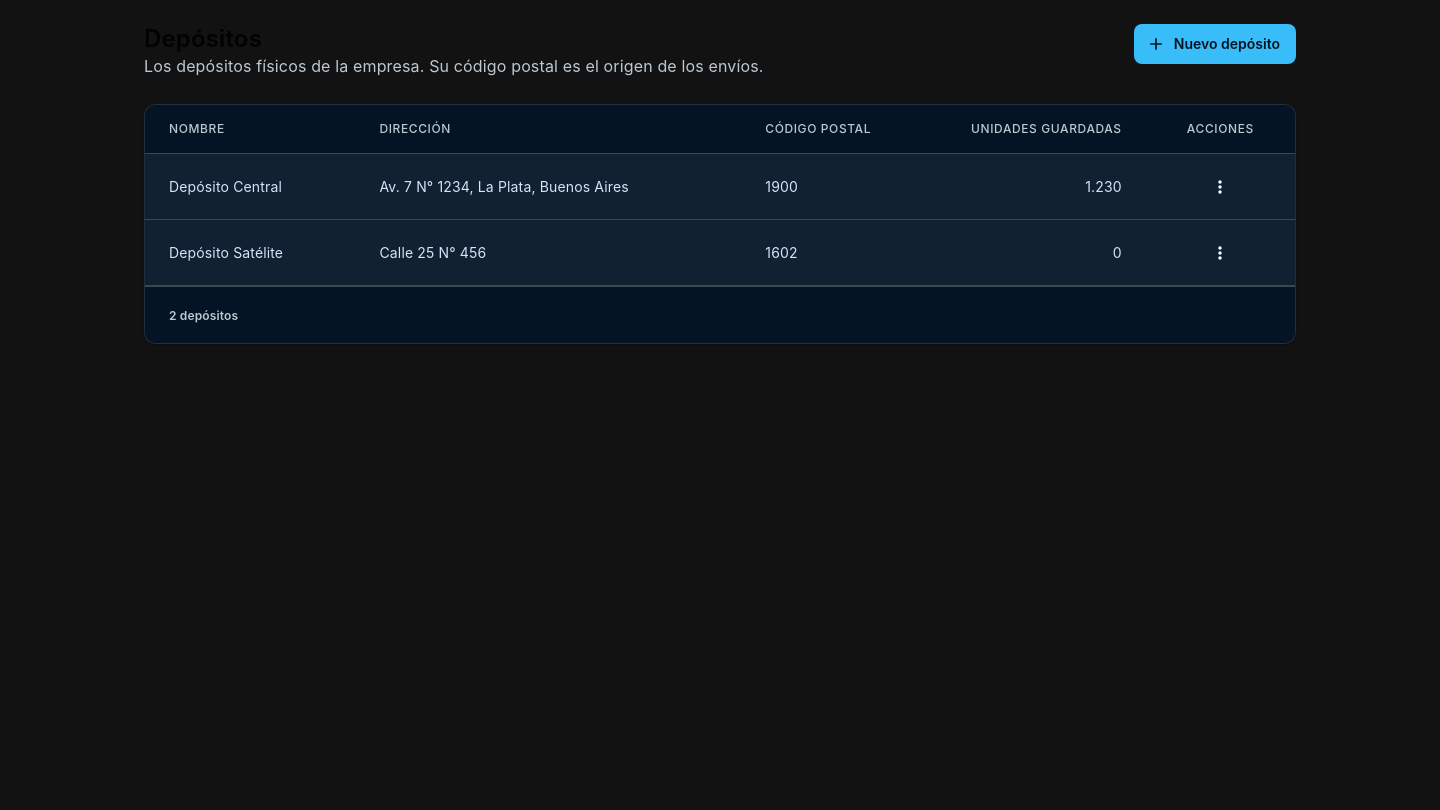
WarehousesPage › explains why the API refused the deletion and stops offering it
This screenshot has width=1440, height=810.
Click the button named "Acciones del depósito Depósito Central" at (1220, 187), box [1205,172,1235,202]
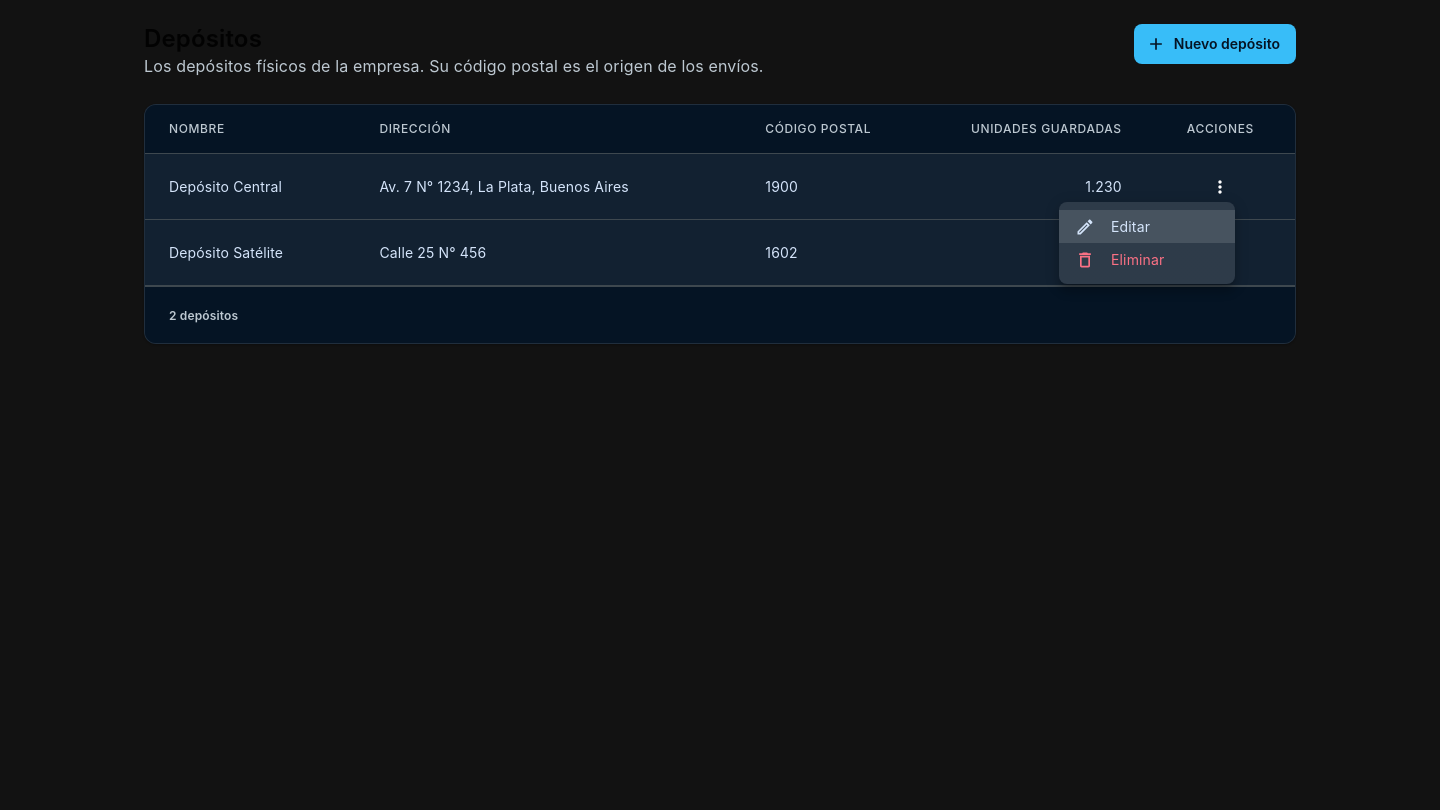
Click the menu item "Eliminar" at (1120, 260), box [1075,250,1164,270]
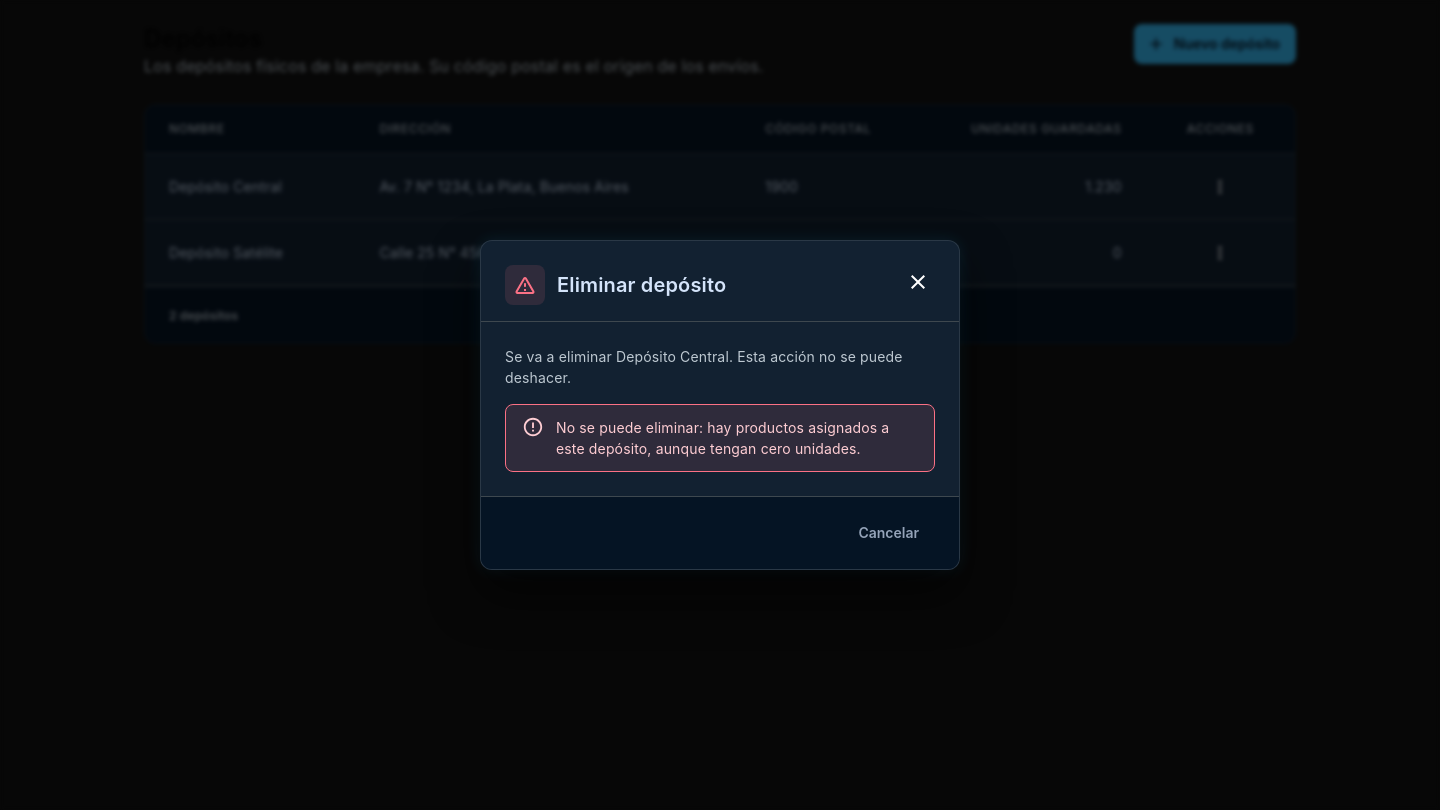
Now the text "hay productos asignados a este depósito" is shown, box [556,419,889,457]
